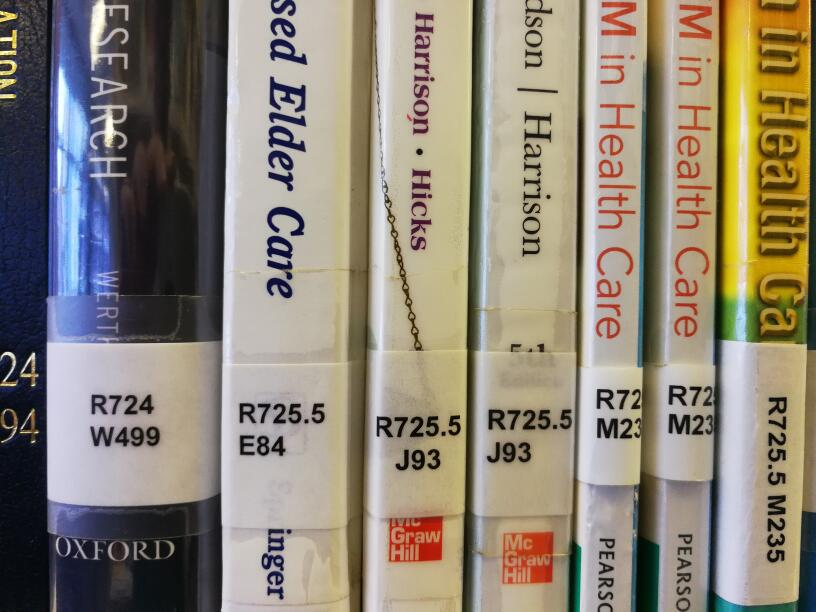booklabel: (236, 400, 325, 458), (373, 414, 461, 472), (486, 407, 573, 464), (764, 394, 789, 564), (86, 392, 161, 447), (664, 381, 715, 438), (594, 388, 644, 444)
